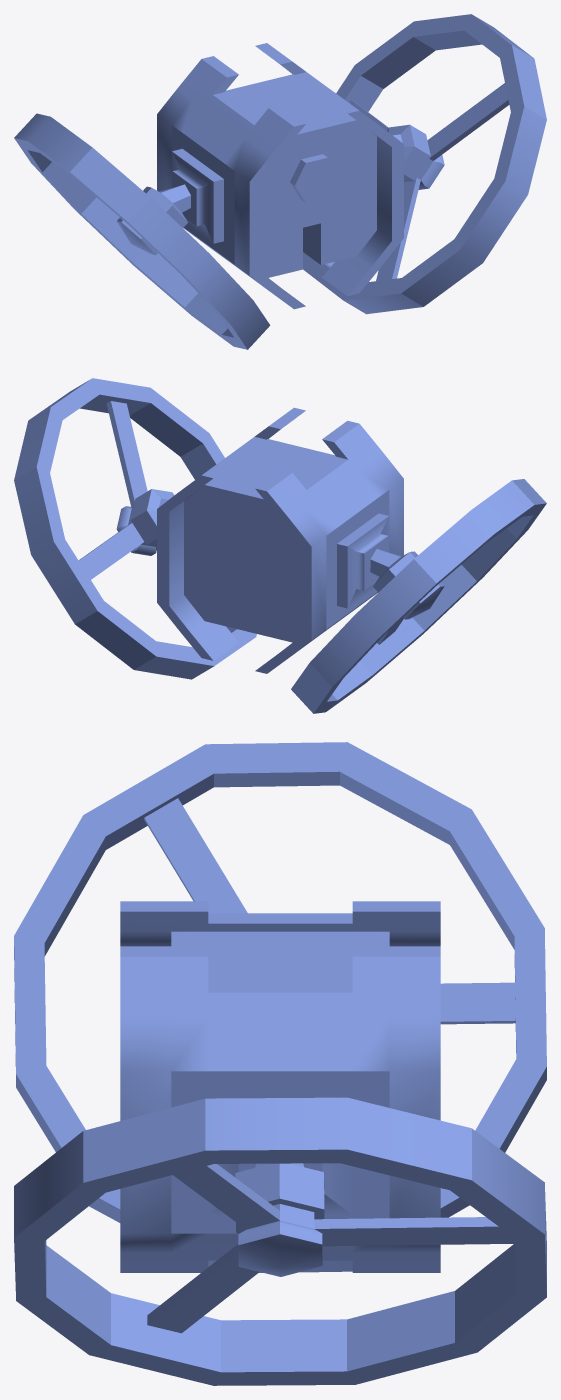
File: Drone_Defense.fbx
3 renders of one model, top to bottom at view 1: azimuth 30°, elevation 25°; view 2: azimuth 150°, elevation 25°; view 3: azimuth 270°, elevation 25°, orthographic. The views are drawn at different scales.
Visible parts, largest first — view 1: Drone_Defense; view 2: Drone_Defense; view 3: Drone_Defense.
Part boxes in pixels (<box>): Drone_Defense: <box>14,14,546,349</box>; Drone_Defense: <box>14,378,546,713</box>; Drone_Defense: <box>14,742,546,1385</box>.
Size of the model in its own units: 104 by 50.25 by 59.22.
